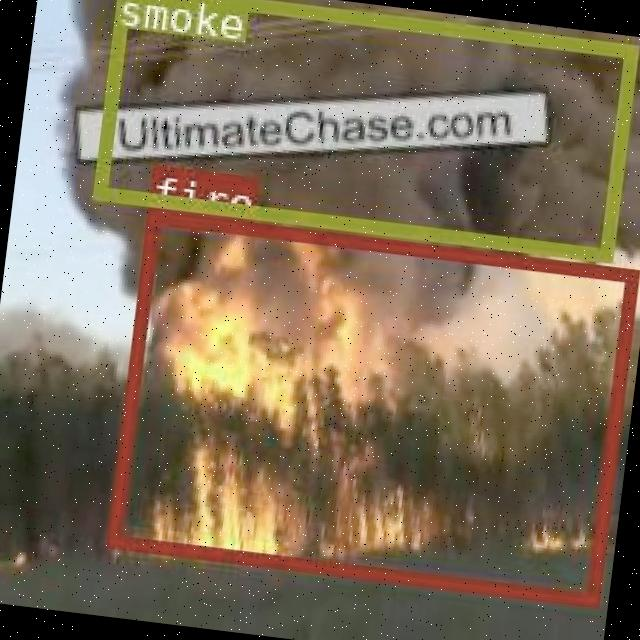fire: (106, 209, 637, 605)
smoke: (92, 0, 635, 258)
